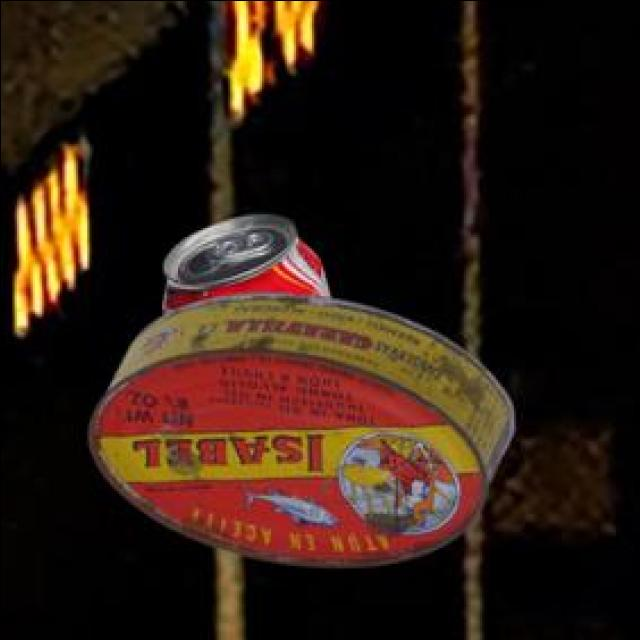logam: (85, 289, 510, 562), (160, 210, 326, 310)
